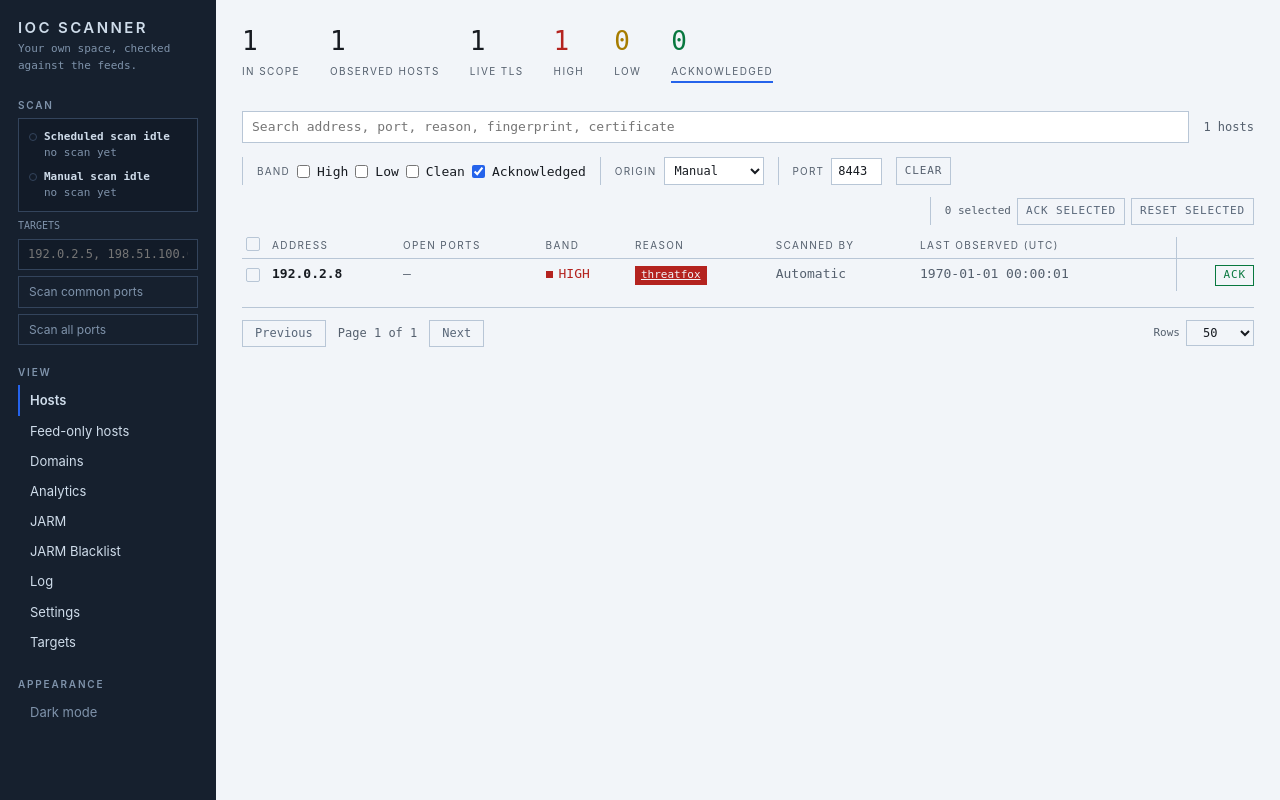
Scenario: dashboard › clears host filters and resets their page
The width and height of the screenshot is (1280, 800).
Expected: the button named "Copy IP 192.0.2.8" is shown, [272,264,342,284]
Expected: the element with class "hosts-bar" is shown, [242,110,1254,225]
Click the button "CLEAR": (924, 171) [896,157,951,185]
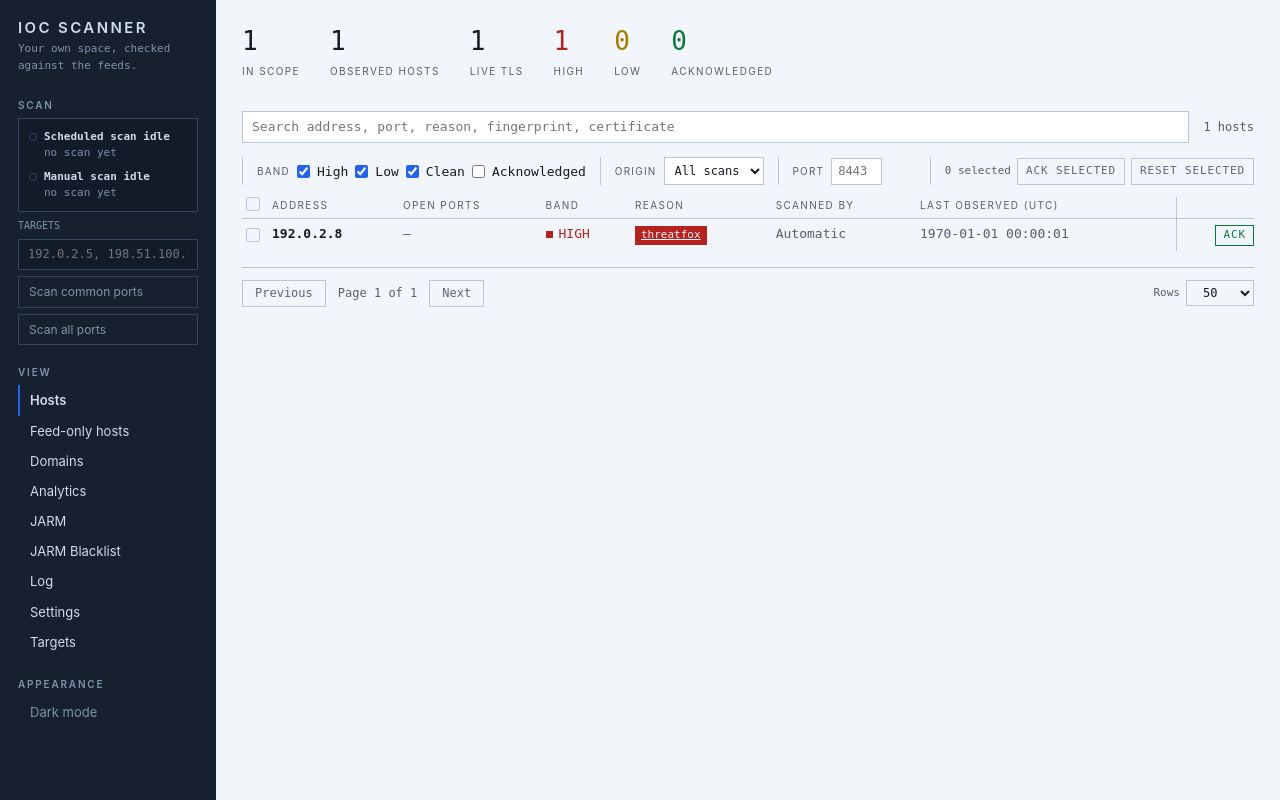
Now the checkbox labelled "High" is checked, box [297,165,310,178]
Now the dropdown labelled "Origin" shows "All scans", box [664,157,764,185]
Now the field labelled "Port" is empty, box [831,158,882,185]
